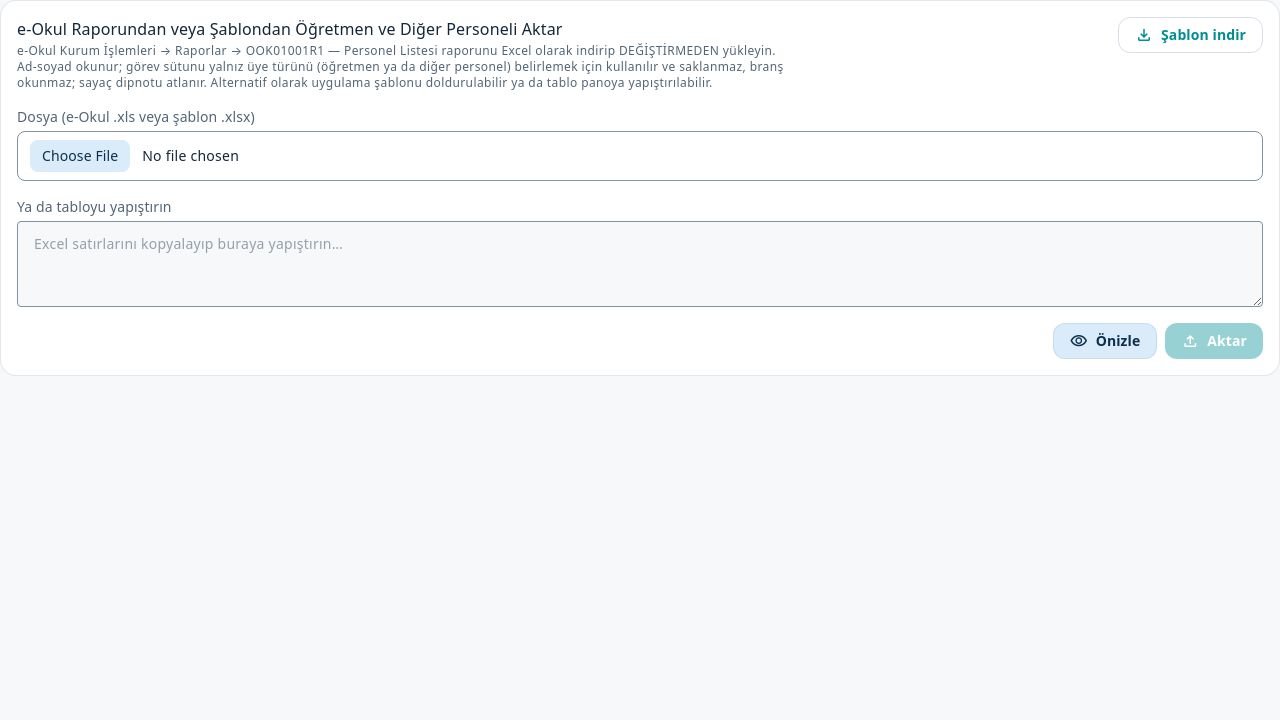
Scenario: AktarimPaneli — personel mutabakatı ve ayrılış havuzu › listede olmayanlar havuza eklenecek diye listelenir; seçim yok, aktarım onaysız
Step 1. Type "liste" into the text box labelled "Ya da tabloyu yapıştırın" → point(640, 264), box [17,221,1263,307]
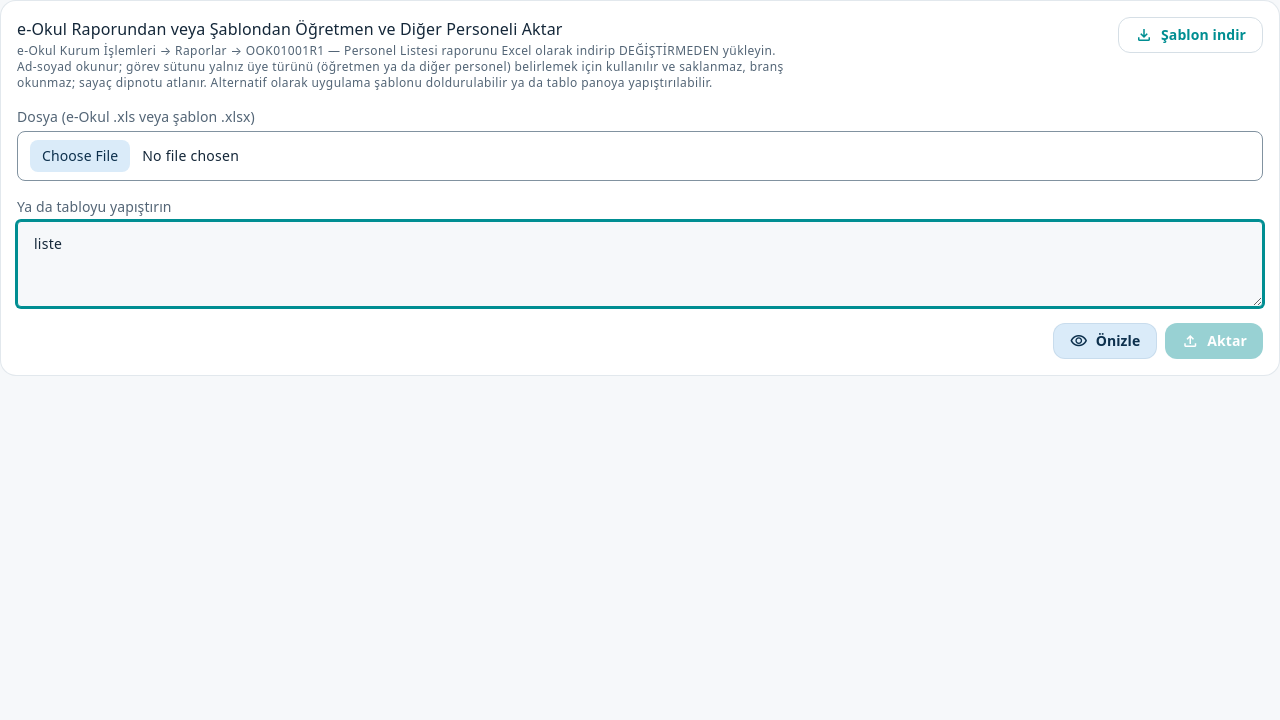
Step 2. Click the button "Önizle" → point(1105, 341), box [1053,323,1157,359]
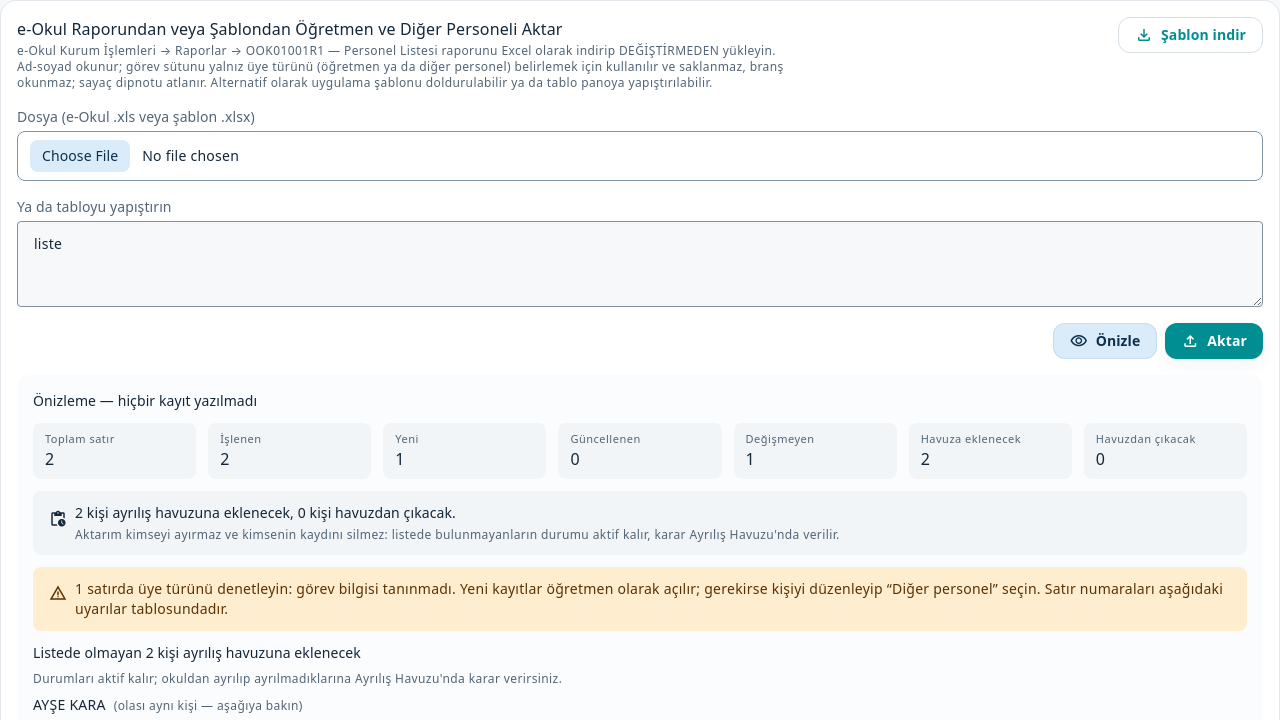
Now the text "Listede olmayan 2 kişi ayrılış havuzuna eklenecek" is shown, box [33,643,361,662]
Now the text "(olası aynı kişi — aşağıya bakın)" is shown, box [114,697,303,714]
Step 3. Click the button "Aktar" → point(1214, 341), box [1165,323,1263,359]
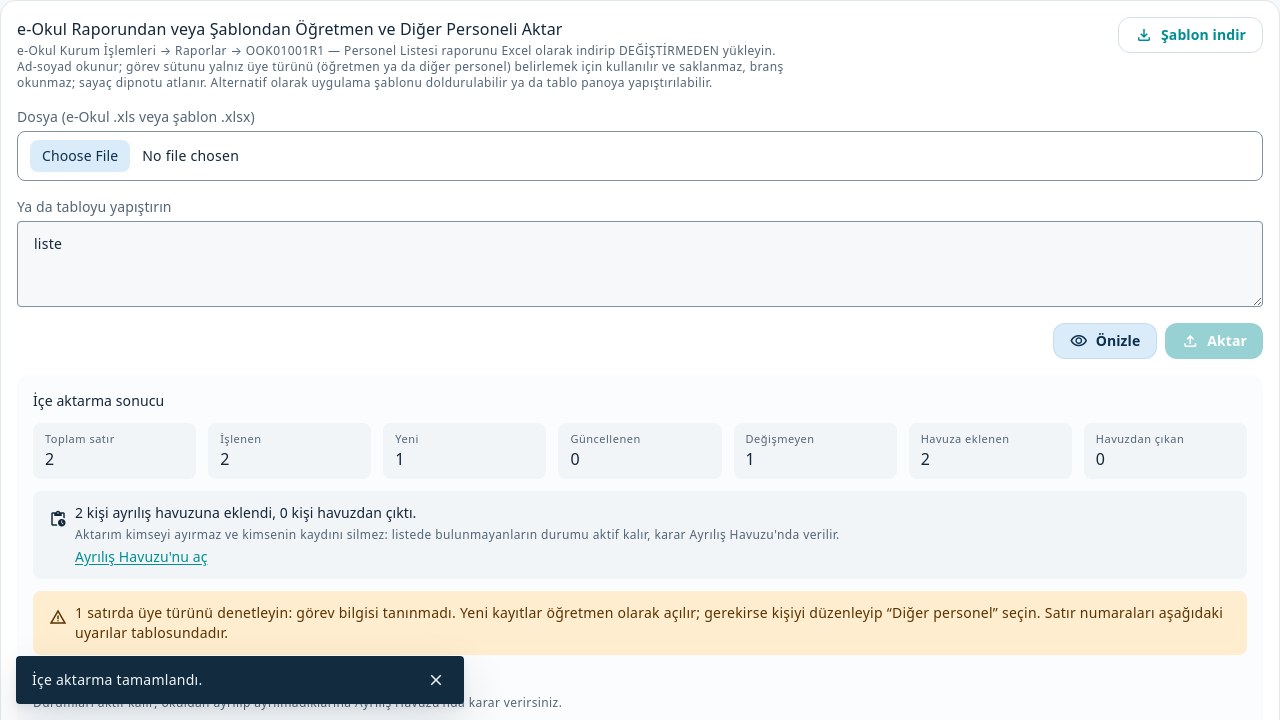
Now the text "İçe aktarma sonucu" is shown, box [33,391,164,410]
Now the text "Listede olmayan 2 kişi ayrılış havuzuna eklendi" is shown, box [33,667,343,686]
